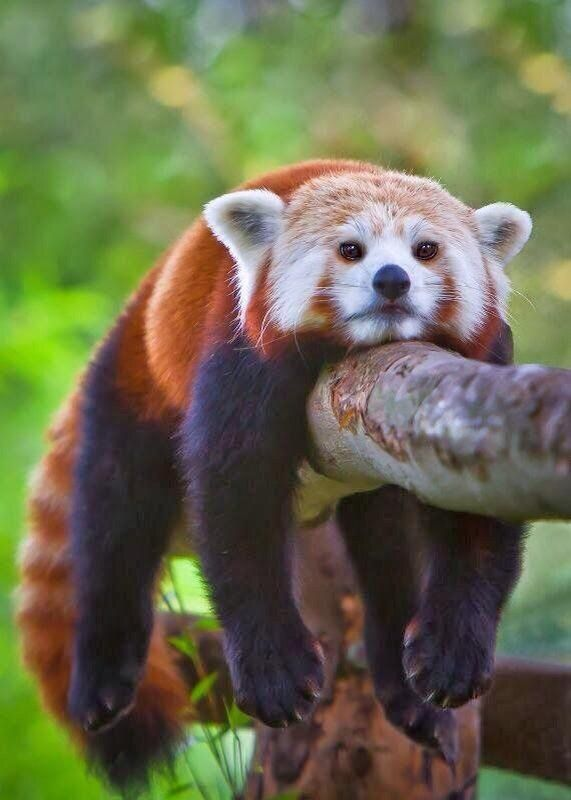red_panda: (52, 160, 528, 742)
